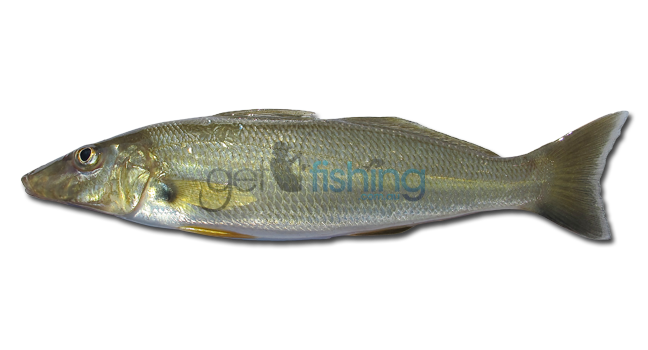kiss: (13, 97, 638, 250)
